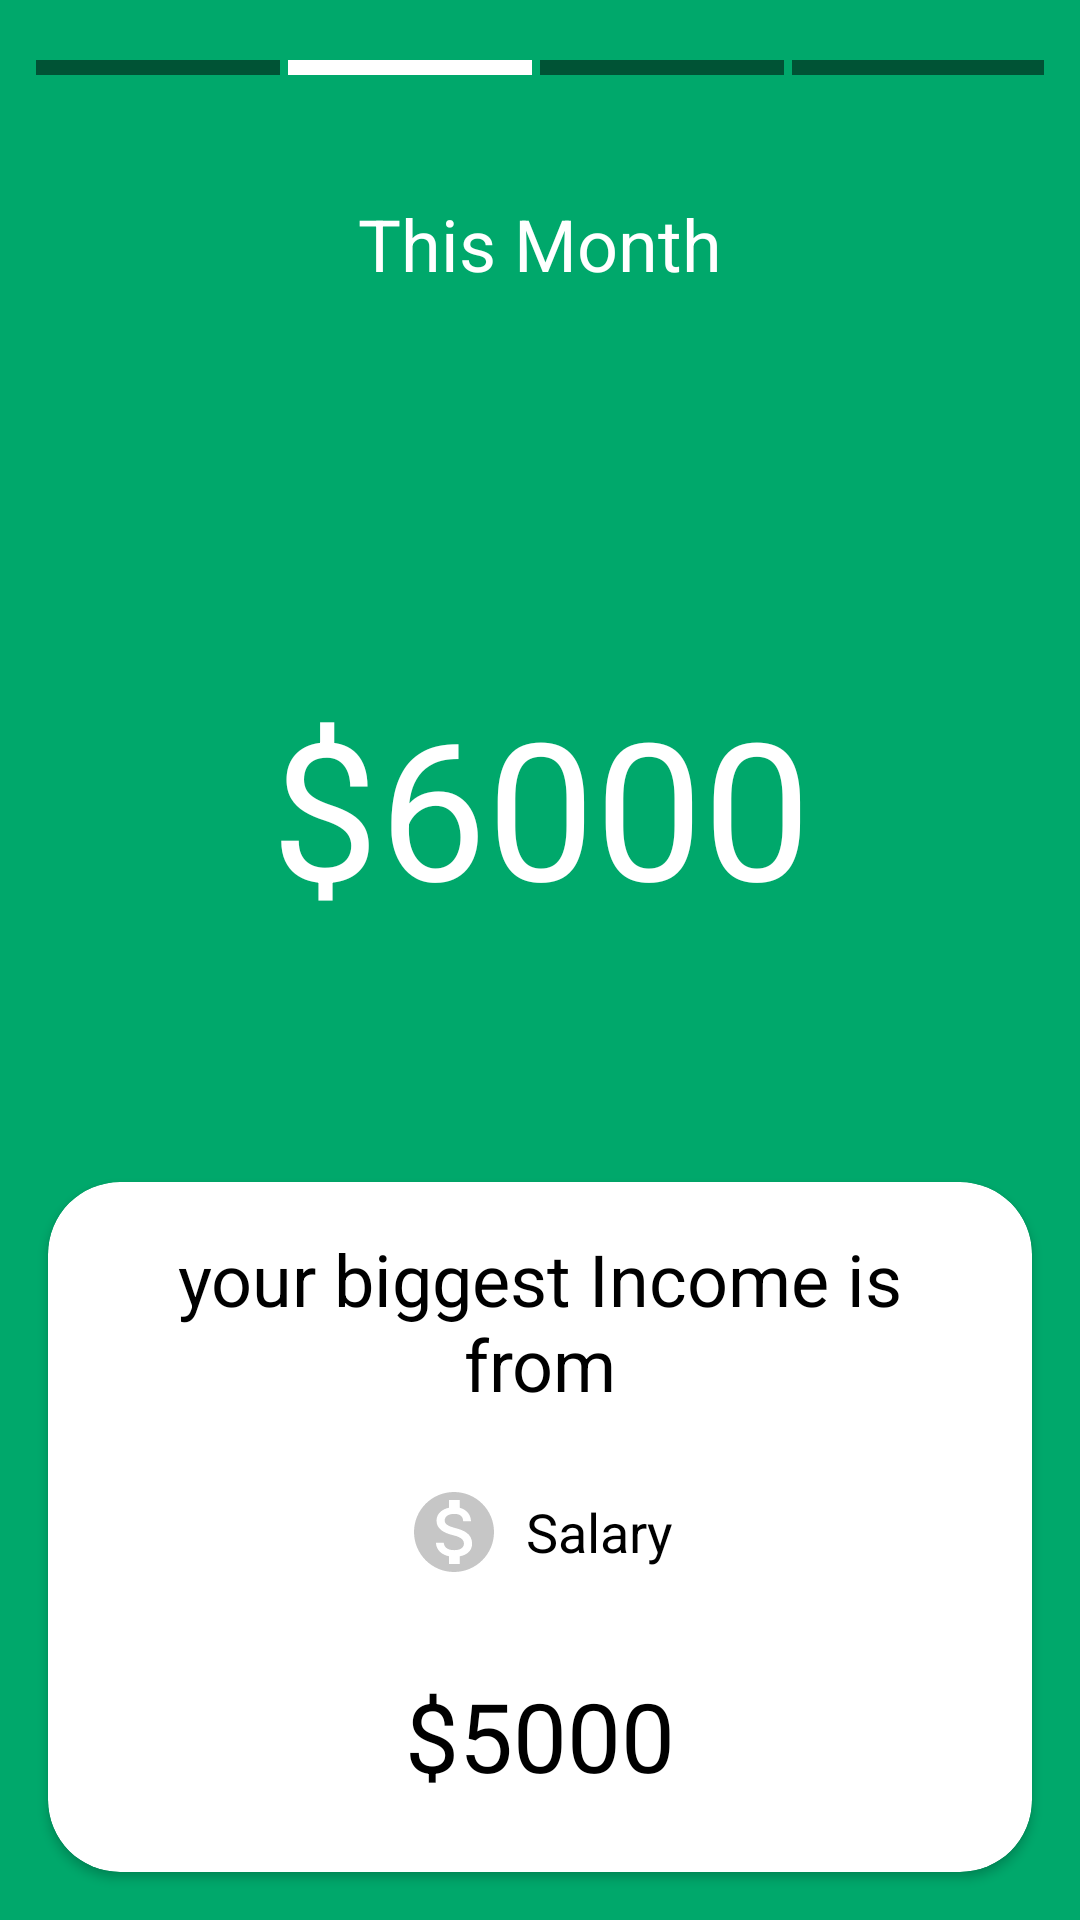

Icon bounding boxes for this 1080x1920 phone screenshot, format bbox(x1, y1, x2, y2):
budget: bbox(414, 1492, 494, 1572)
